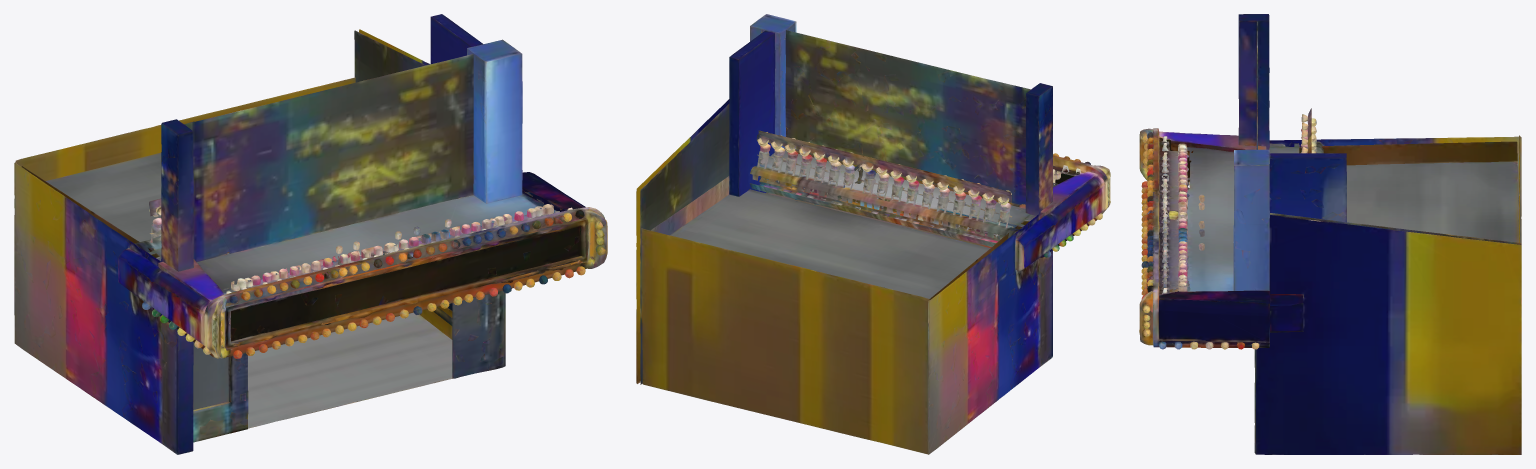
File: facade-neon-arcade.glb
The picture shows the model from 3 angles, left to right: view 1: azimuth 30°, elevation 25°; view 2: azimuth 150°, elevation 25°; view 3: azimuth 270°, elevation 25°; orthographic projection. The views are drawn at different scales.
Visible parts, largest first — view 1: geometry_0; view 2: geometry_0; view 3: geometry_0.
Part boxes in pixels (x1,y1,x2,y2): geometry_0: (14, 14, 607, 454); geometry_0: (636, 14, 1110, 454); geometry_0: (1139, 14, 1521, 454).
Bounding box in the file's own units: 1 × 0.7714 × 0.9168.
1 material, 1 textured.
